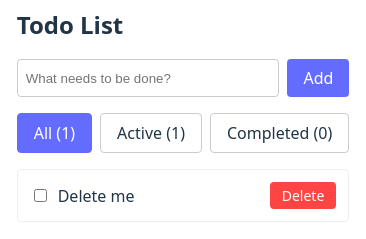
Test: TodoList Component › deletes todo when delete button is clicked
Expected: the text "Delete me" is shown, [58, 185, 134, 207]
# Click delete button
Step 1. Click the button with test id "delete-button-1" → (303, 196), box [270, 182, 336, 210]
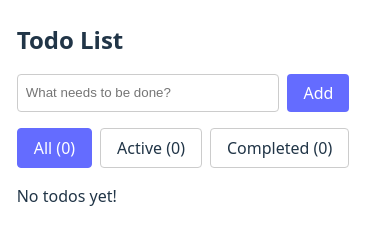
Expected: the text "Delete me" is gone
Expected: the text "No todos yet!" is shown, [17, 185, 117, 207]
